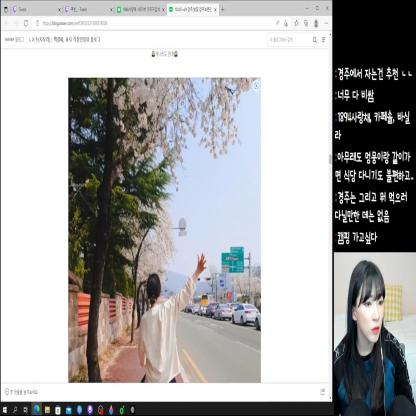streamer: (334, 260, 416, 416)
